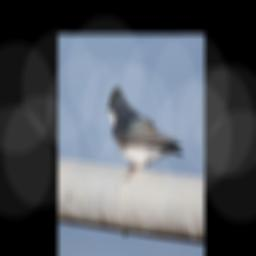Swallow: (106, 87, 183, 182)
